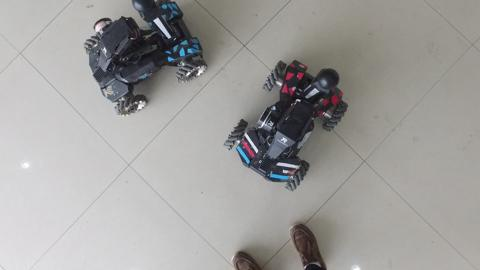chariot: (213, 38, 368, 206), (80, 1, 209, 120)
